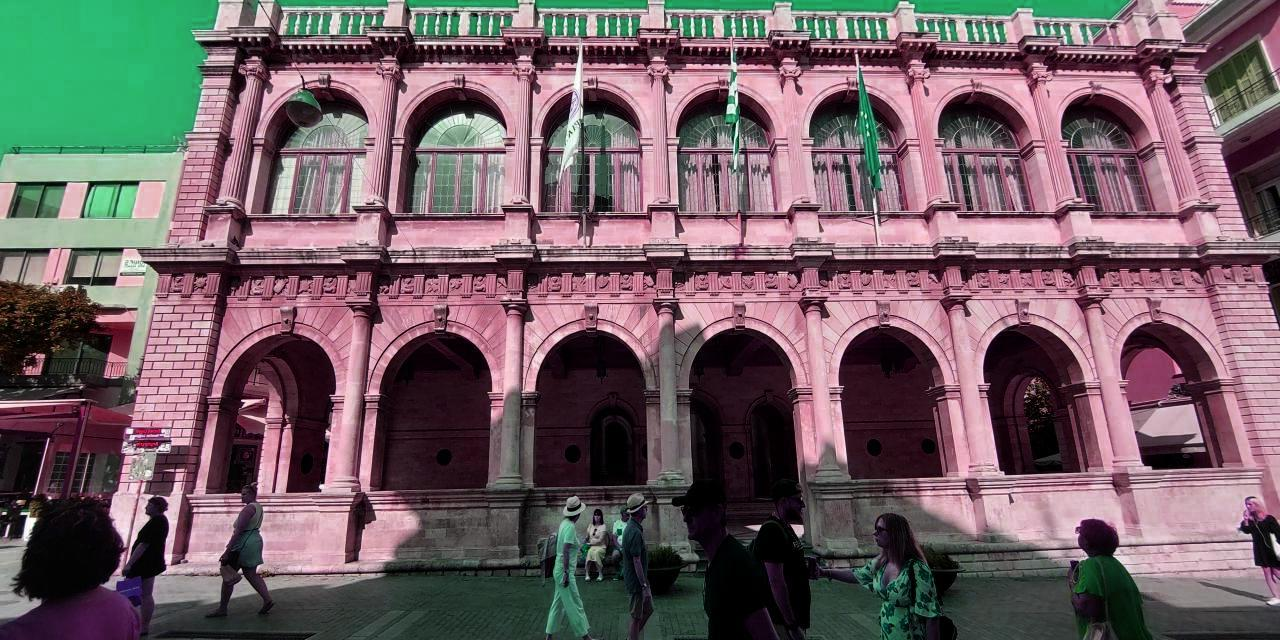Loggia: (85, 1, 1280, 586)
